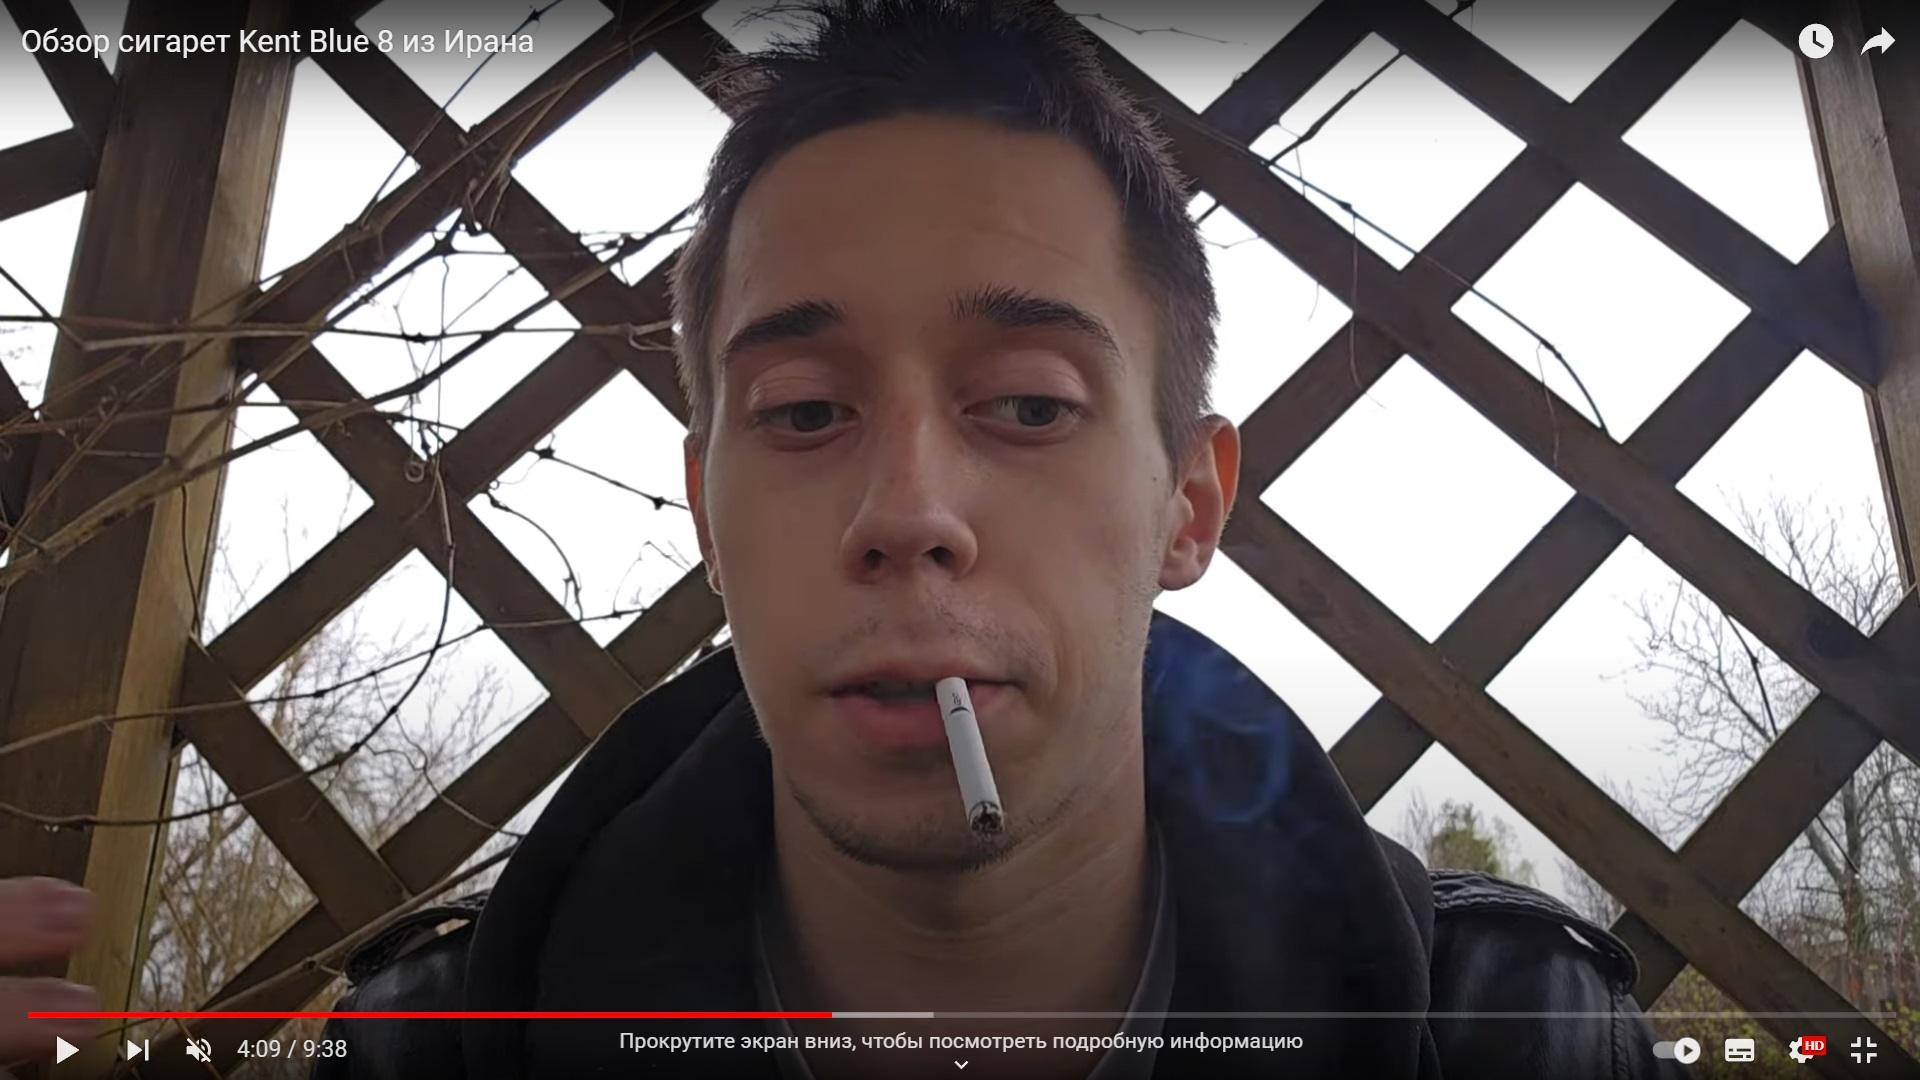cigarette: (938, 675, 1005, 836)
